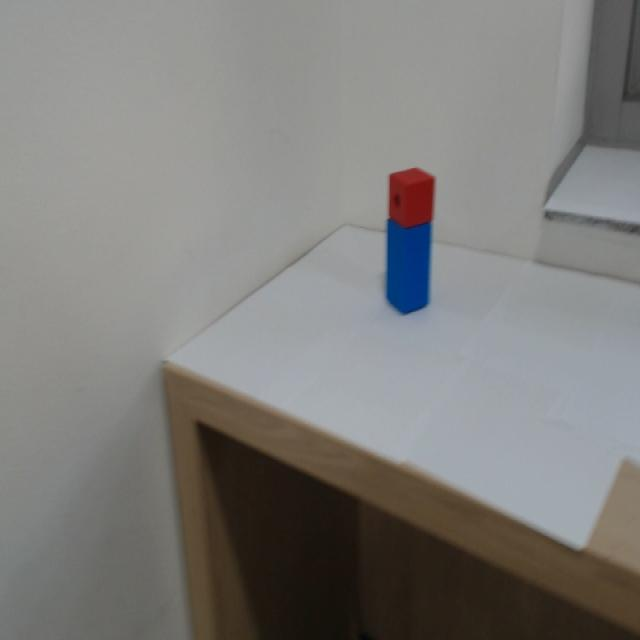cube: (378, 160, 441, 231)
